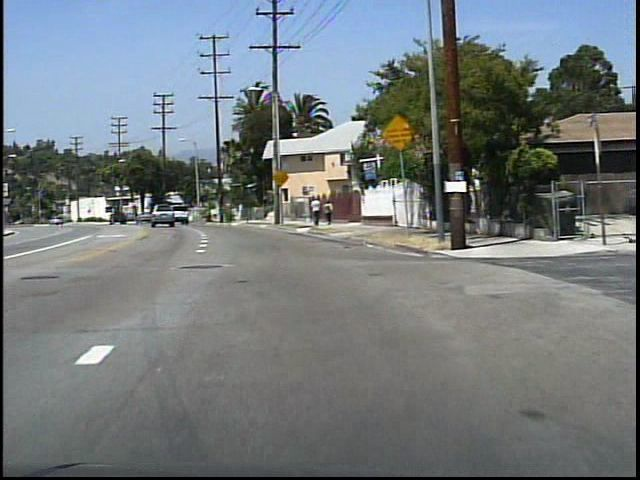person: (308, 196, 322, 228), (322, 199, 335, 228)
